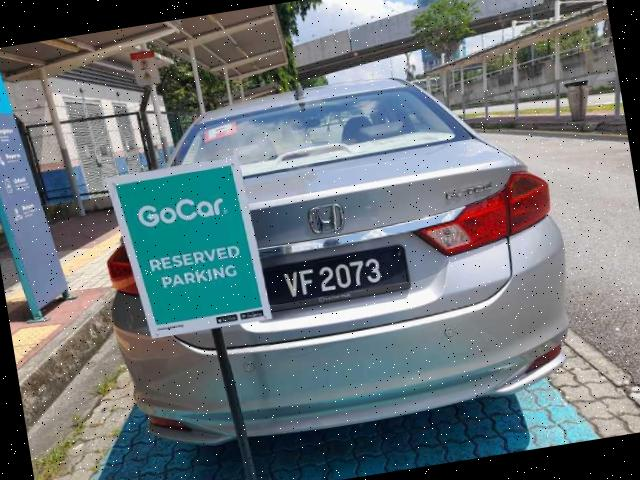License_Plate: (262, 243, 413, 313)
car: (80, 50, 587, 461)
